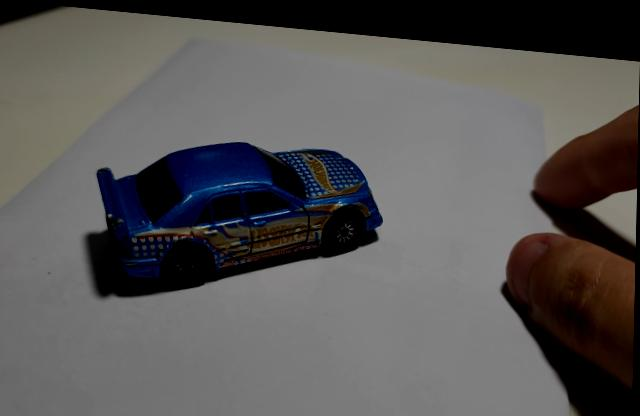04_MERZEDES: (97, 138, 383, 287)
